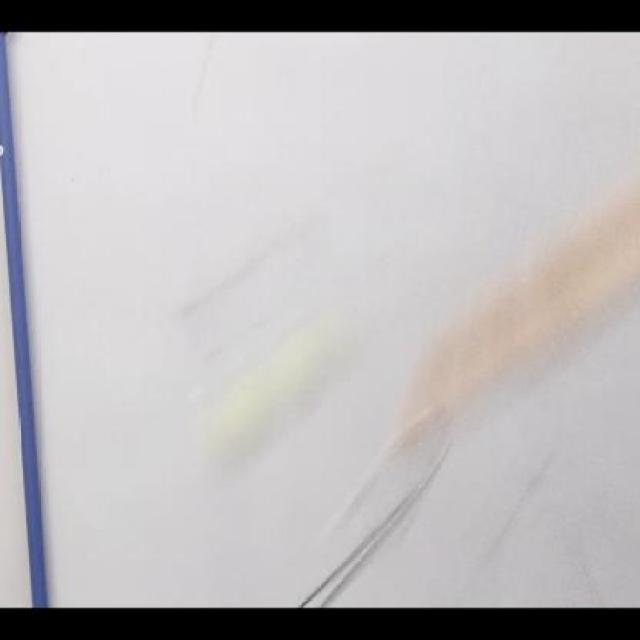baseball: (197, 302, 357, 487)
